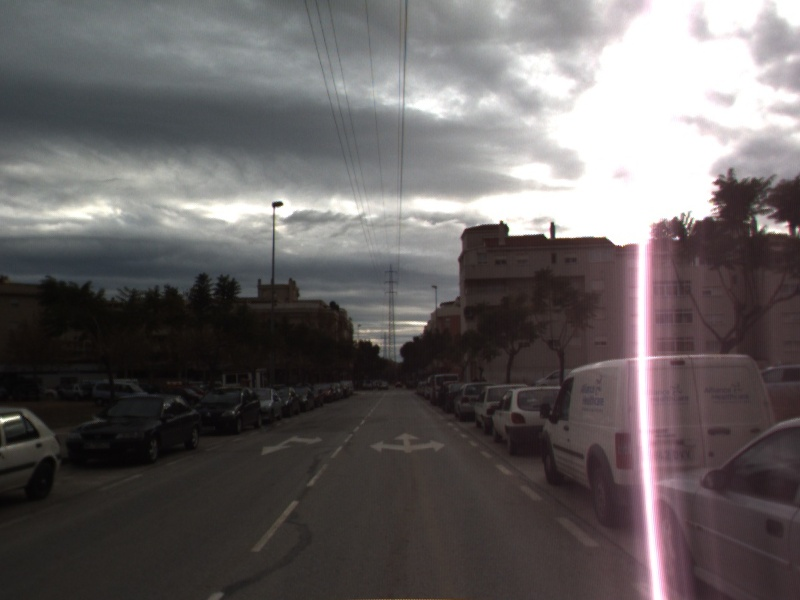STRAIGHT_LEFT_RIGHT: (367, 431, 447, 455)
